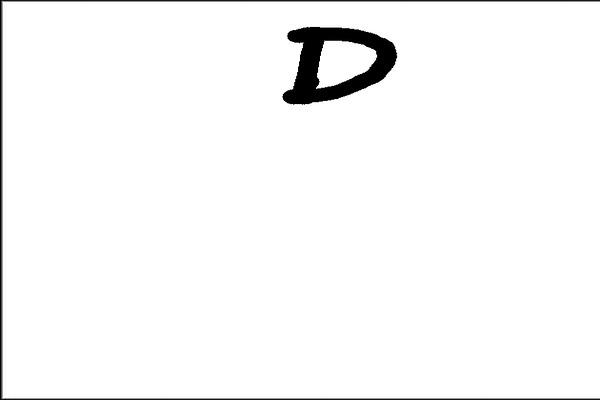D: (275, 19, 402, 110)
